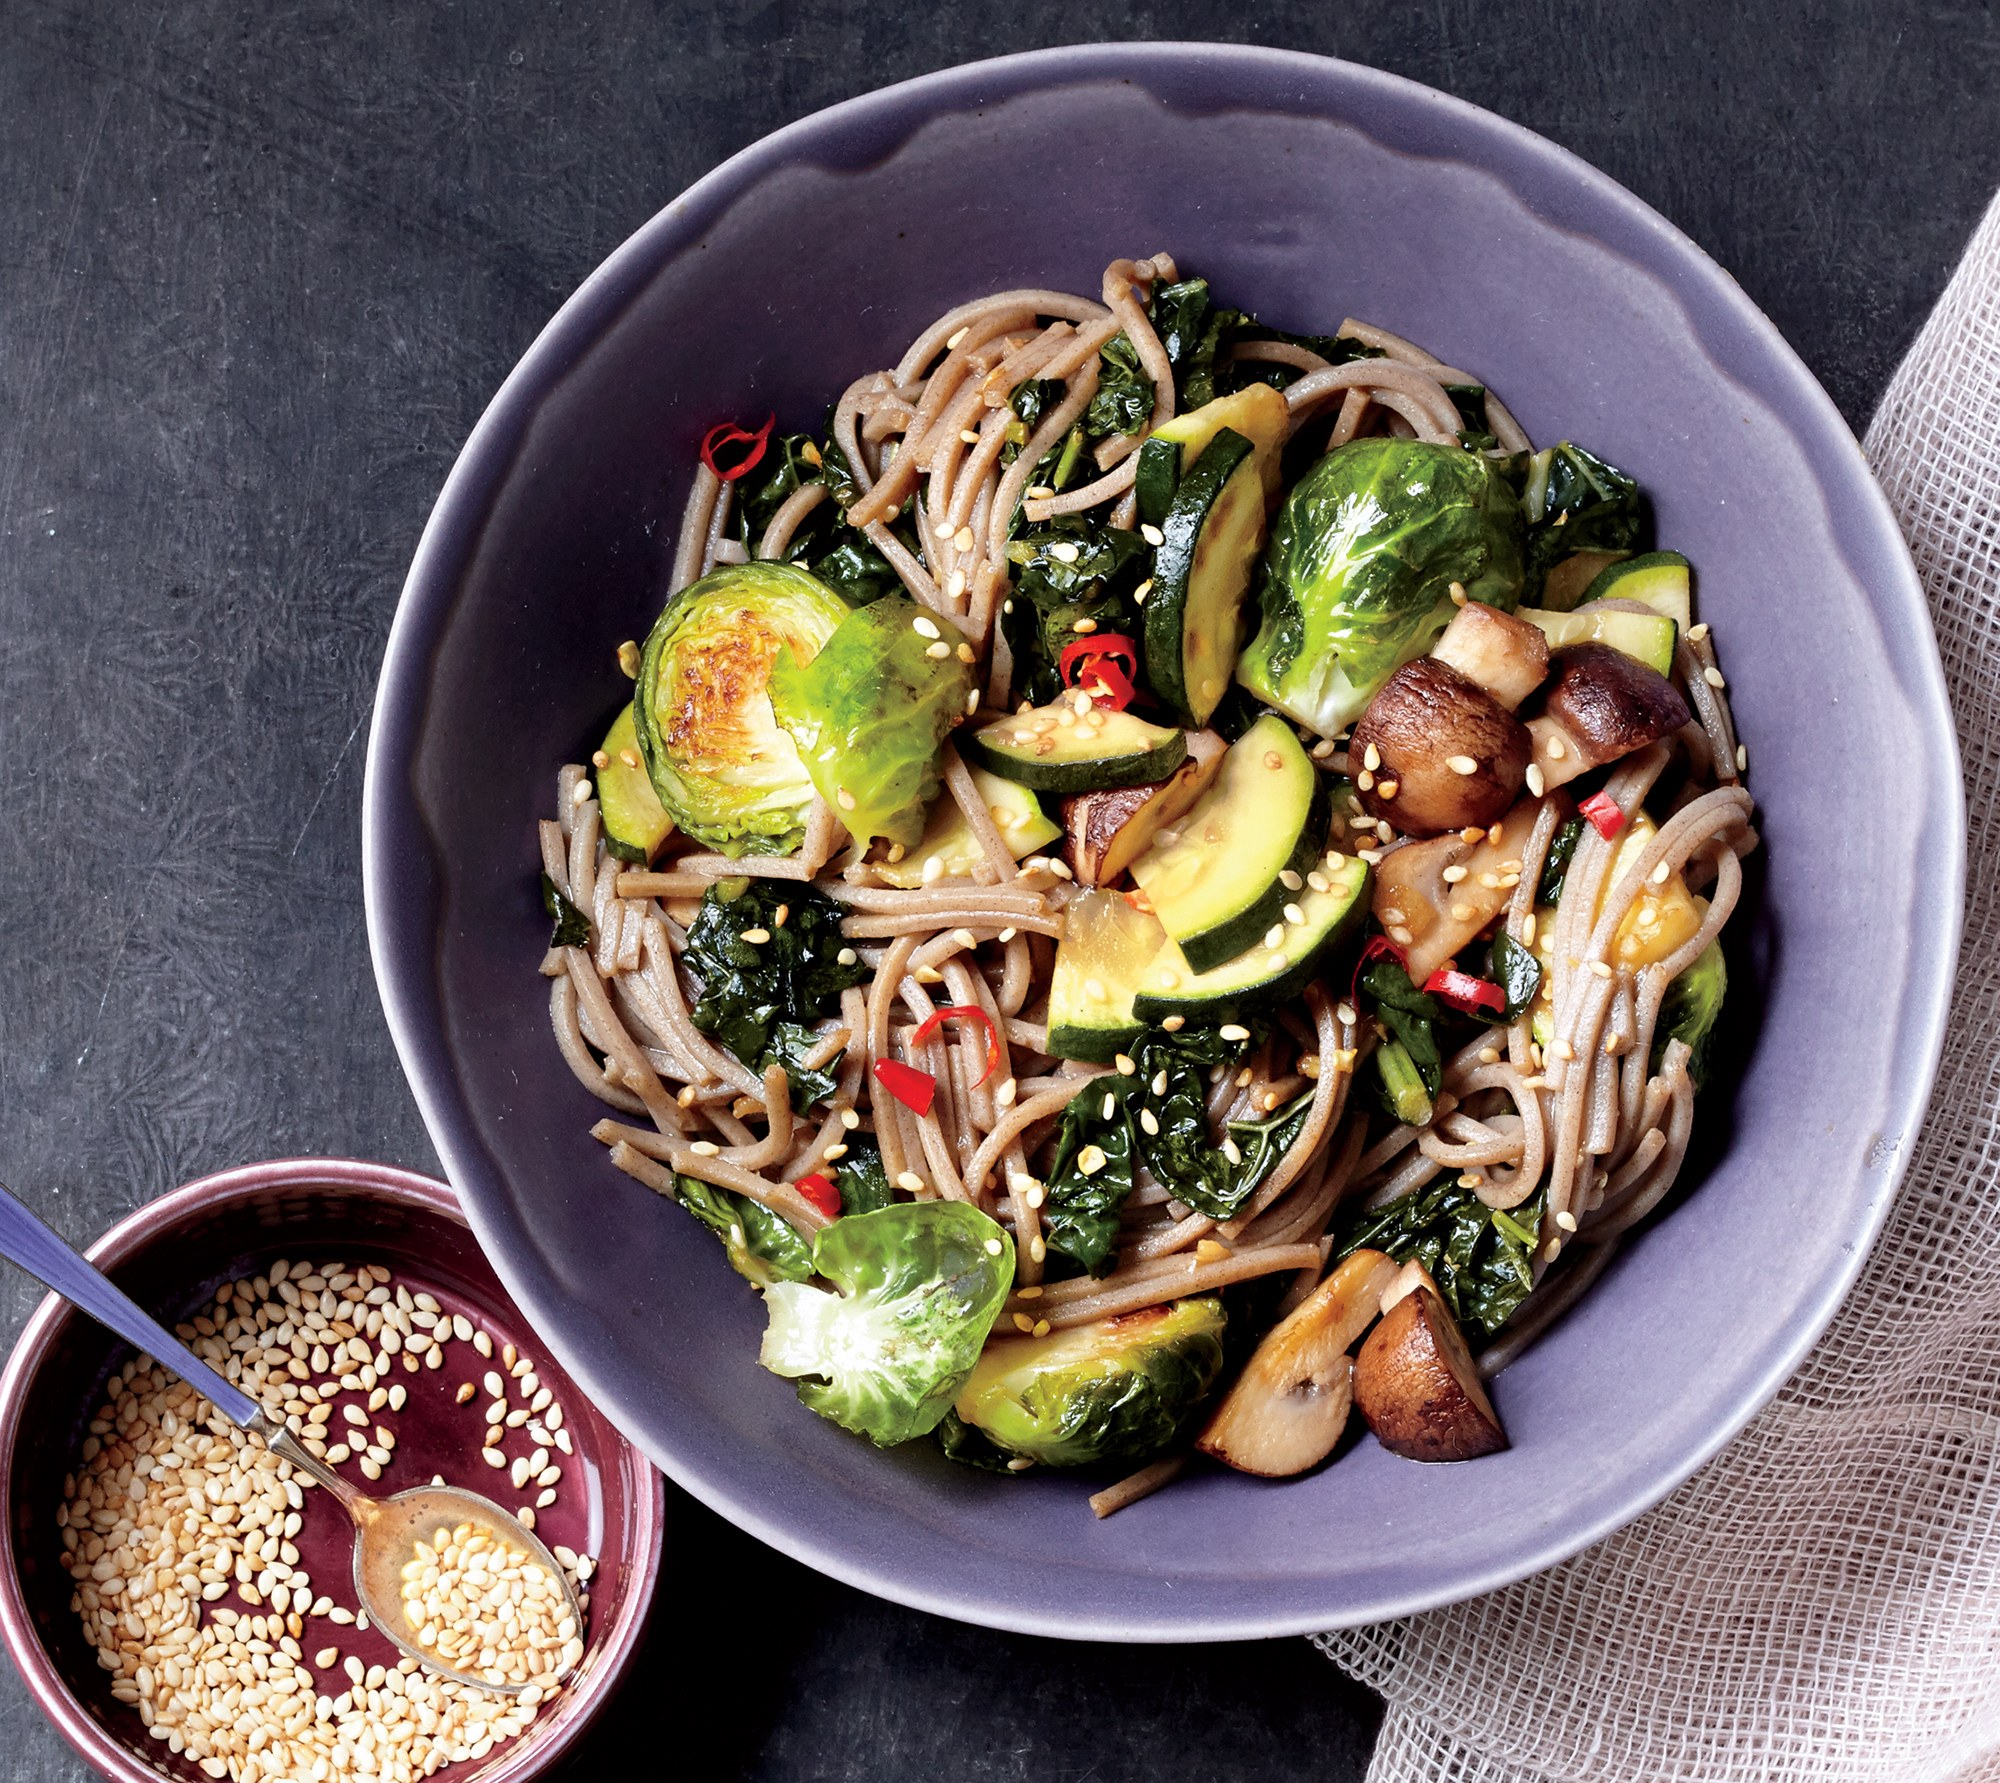Soba: (484, 251, 1792, 1547)
